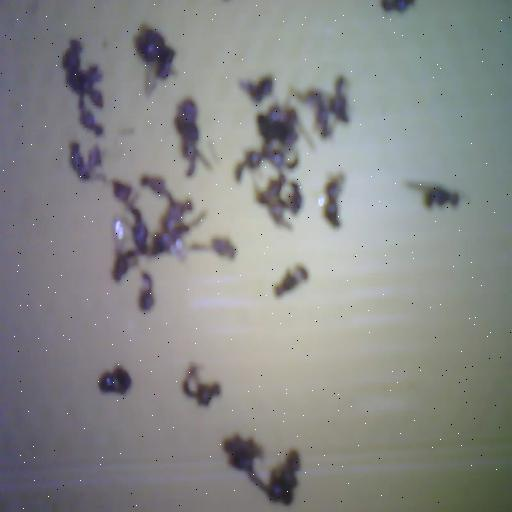Insects: (235, 100, 313, 228), (223, 435, 300, 505), (62, 40, 103, 135), (151, 193, 206, 260), (292, 76, 348, 138), (135, 26, 175, 96), (112, 181, 149, 254), (175, 99, 210, 176), (235, 145, 298, 182), (256, 175, 291, 229), (267, 450, 300, 505), (295, 89, 332, 138), (257, 105, 298, 148), (112, 217, 138, 281), (183, 364, 220, 406), (405, 181, 460, 208), (223, 435, 263, 472), (319, 173, 345, 227), (70, 141, 105, 180), (274, 265, 308, 296), (190, 238, 236, 259), (329, 76, 349, 123), (240, 76, 273, 103), (235, 151, 263, 182), (99, 367, 131, 394), (130, 206, 148, 254), (112, 250, 138, 281), (140, 175, 171, 200), (70, 142, 90, 180), (79, 107, 103, 136), (112, 216, 130, 254), (112, 181, 136, 207), (62, 40, 82, 71), (286, 180, 304, 214), (139, 273, 154, 311), (381, 0, 414, 11)
